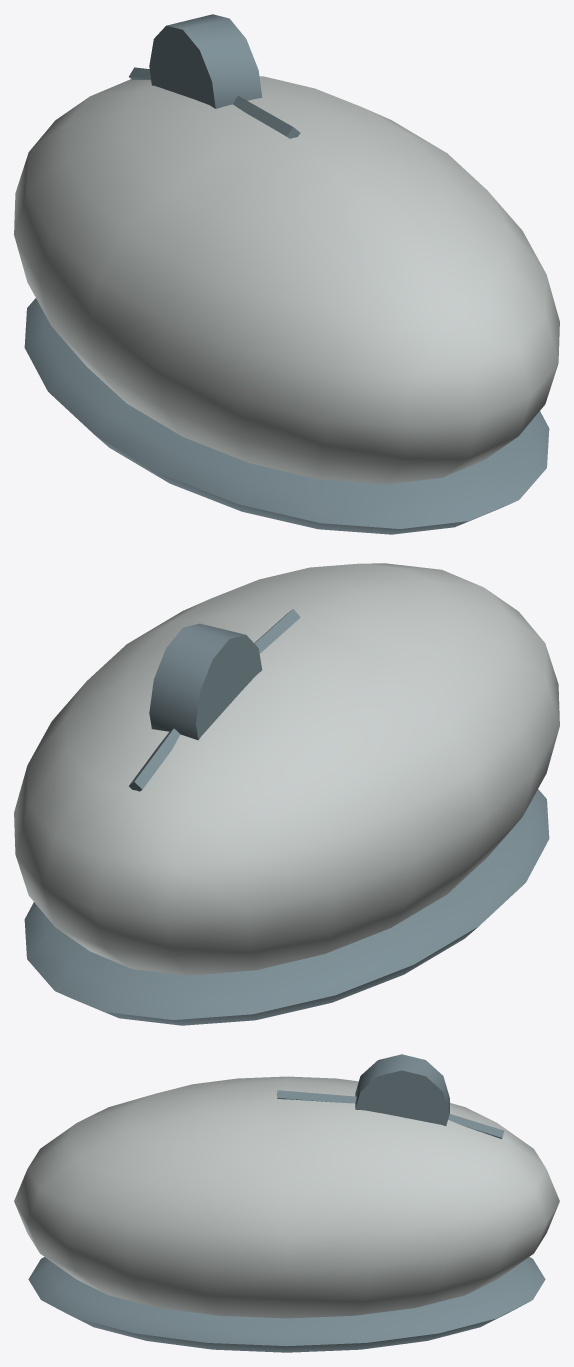
File: computer-mouse.glb
The picture shows the model from 3 angles, top to bottom: view 1: azimuth 30°, elevation 25°; view 2: azimuth 150°, elevation 25°; view 3: azimuth 270°, elevation 25°; orthographic projection. The views are drawn at different scales.
Visible parts, largest first — view 1: ergonomic_shell, lower_shell, scroll_wheel, button_seam; view 2: ergonomic_shell, lower_shell, scroll_wheel, button_seam; view 3: ergonomic_shell, lower_shell, scroll_wheel, button_seam.
Boxes of the visible parts, x1=… form: ergonomic_shell: x1=14, y1=76, x2=559, y2=484; lower_shell: x1=24, y1=298, x2=549, y2=534; scroll_wheel: x1=149, y1=14, x2=262, y2=108; button_seam: x1=129, y1=67, x2=300, y2=138; ergonomic_shell: x1=14, y1=563, x2=559, y2=975; lower_shell: x1=24, y1=789, x2=549, y2=1025; scroll_wheel: x1=149, y1=623, x2=262, y2=740; button_seam: x1=129, y1=609, x2=300, y2=791; ergonomic_shell: x1=14, y1=1076, x2=559, y2=1318; lower_shell: x1=28, y1=1257, x2=545, y2=1352; scroll_wheel: x1=355, y1=1054, x2=449, y2=1126; button_seam: x1=277, y1=1090, x2=504, y2=1138.
Bounding box in the file's own units: 0.068 × 0.057 × 0.114.
